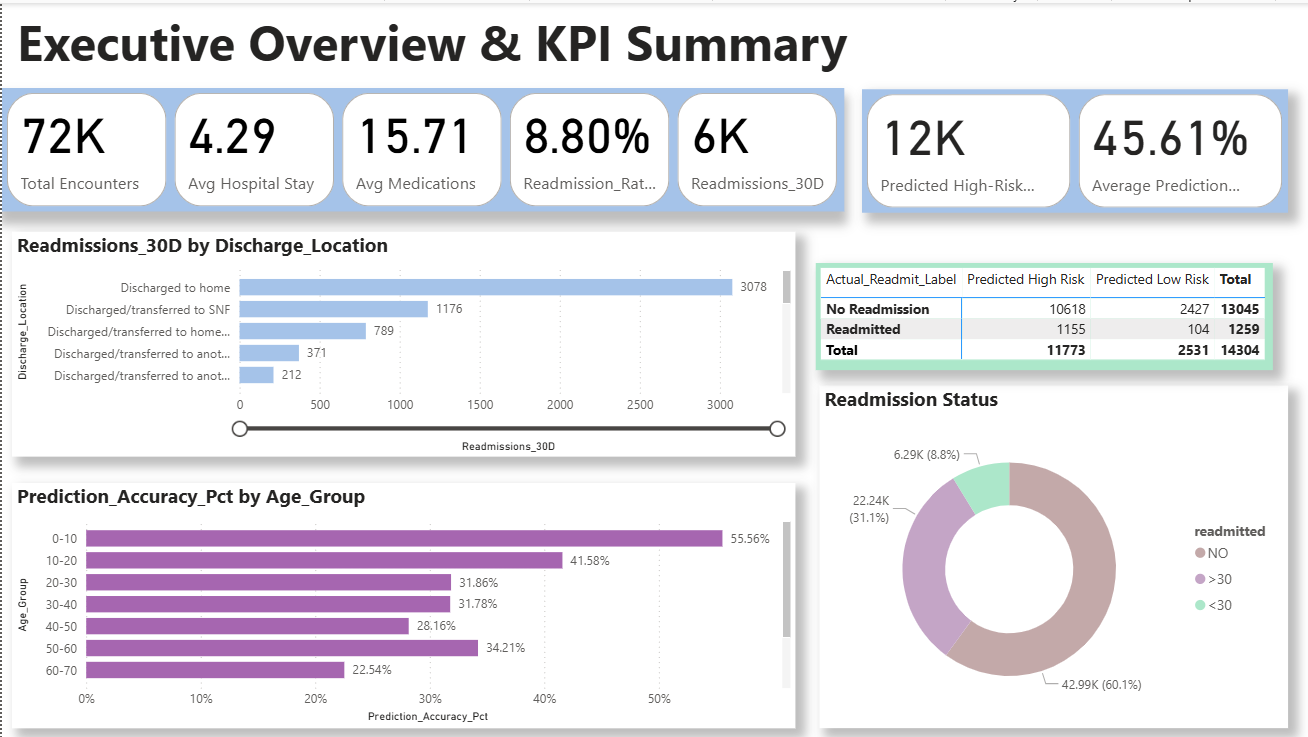

The page's visual inventory and layout, read from the dashboard file:
{"tool":"powerbi","page":{"name":"Executive Overview & KPI Summary","canvas":[1280,720],"ordinal":0},"visuals":[{"type":"textbox","box":[9.8,0,985.6,83.2],"z":0},{"type":"cardVisual","fields":{"Data":["admission.Total Encounters","admission.Avg Hospital Stay","admission.Avg Medications","admission.Readmission Rate %","admission.Readmissions 30D"]},"box":[0,83.2,824.2,121.1],"z":1000},{"type":"clusteredBarChart","fields":{"Y":["hospital_readmission_predictions.Readmissions_30D"],"Category":["diabetic_data.Discharge_Location"]},"box":[9.8,223.8,766.7,220.1],"z":2000},{"type":"barChart","fields":{"Category":["hospital_readmission_predictions.Age_Group"],"Y":["hospital_readmission_predictions.Prediction_Accuracy_Pct"]},"box":[9.8,469.6,766.7,239.7],"z":3000},{"type":"cardVisual","fields":{"Data":["hospital_readmission_predictions.Predicted High-Risk Encounters","hospital_readmission_predictions.Average Prediction Probability"]},"box":[841.3,84.4,417,121.1],"z":4000},{"type":"donutChart","title":"Readmission Status","fields":{"Y":["CountNonNull(diabetic_data.encounter_id)"],"Category":["diabetic_data.readmitted"]},"box":[799.7,374.2,458.6,335.1],"z":5000},{"type":"pivotTable","fields":{"Rows":["hospital_readmission_predictions.Actual_Readmit_Label"],"Columns":["hospital_readmission_predictions.Predicted_Risk_Label"],"Values":["CountNonNull(hospital_readmission_predictions.actual_target)"]},"box":[796.1,254.3,447.6,105.2],"z":6000}]}

Visuals, with their boxes in screenshot pixels (x1, y1, x2, y2), scaled from the page's 1280x720 canvas onto the 1308x737 screenshot:
textbox: crop(10, 0, 1017, 85)
cardVisual - admission.Total Encounters x admission.Avg Hospital Stay: crop(0, 85, 842, 209)
clusteredBarChart - hospital_readmission_predictions.Readmissions_30D x diabetic_data.Discharge_Location: crop(10, 229, 793, 454)
barChart - hospital_readmission_predictions.Age_Group x hospital_readmission_predictions.Prediction_Accuracy_Pct: crop(10, 481, 793, 726)
cardVisual - hospital_readmission_predictions.Predicted High-Risk Encounters x hospital_readmission_predictions.Average Prediction Probability: crop(860, 86, 1286, 210)
"Readmission Status" donutChart: crop(817, 383, 1286, 726)
pivotTable - hospital_readmission_predictions.Actual_Readmit_Label x hospital_readmission_predictions.Predicted_Risk_Label: crop(814, 260, 1271, 368)
